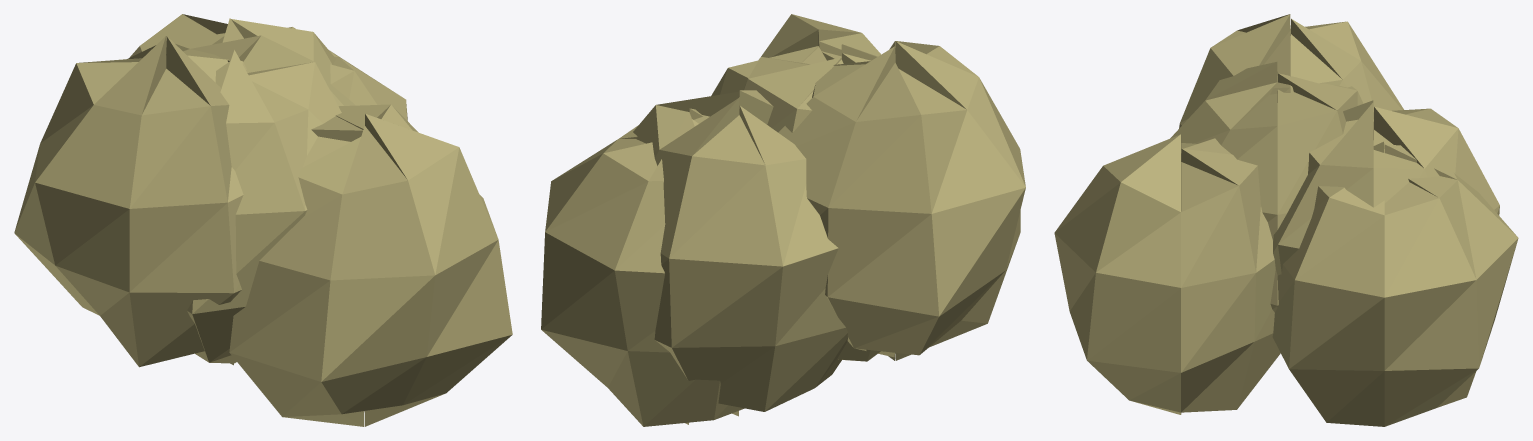
Rendered from dry_shrub_variant_01.glb.
3 renders of one model, left to right at view 1: azimuth 30°, elevation 25°; view 2: azimuth 150°, elevation 25°; view 3: azimuth 270°, elevation 25°, orthographic. The views are drawn at different scales.
Visible parts, largest first — view 1: static_leaf_dry; view 2: static_leaf_dry; view 3: static_leaf_dry.
Boxes of the visible parts, <box> form: static_leaf_dry: <box>14,14,512,426</box>; static_leaf_dry: <box>541,14,1025,426</box>; static_leaf_dry: <box>1054,14,1518,426</box>.
Size of the model in its own units: 1.38 by 1.2 by 1.46.
